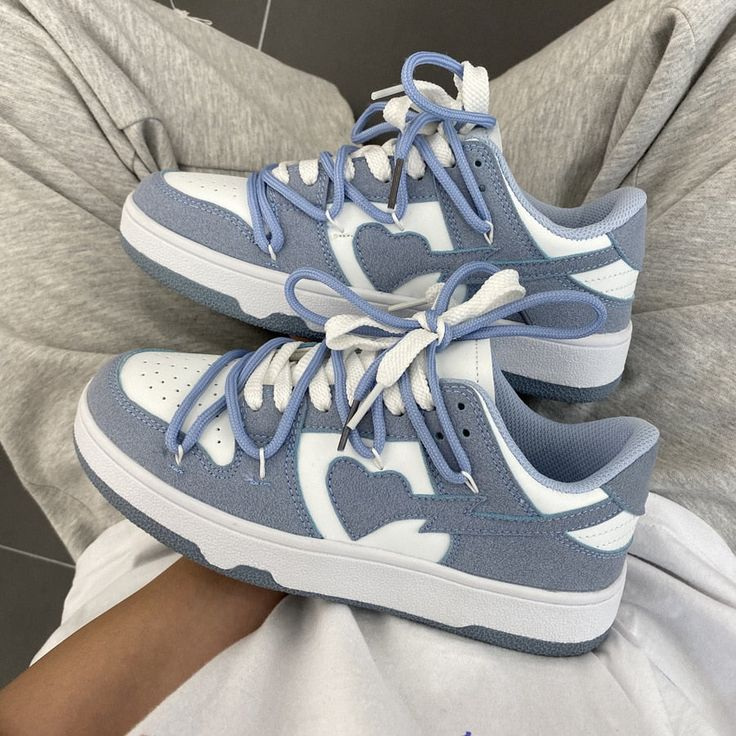gamuza: (86, 136, 659, 593)
